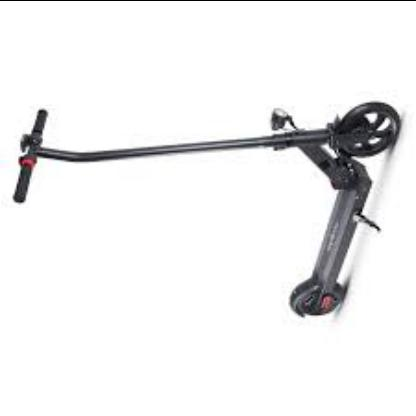bike: (7, 98, 403, 324)
